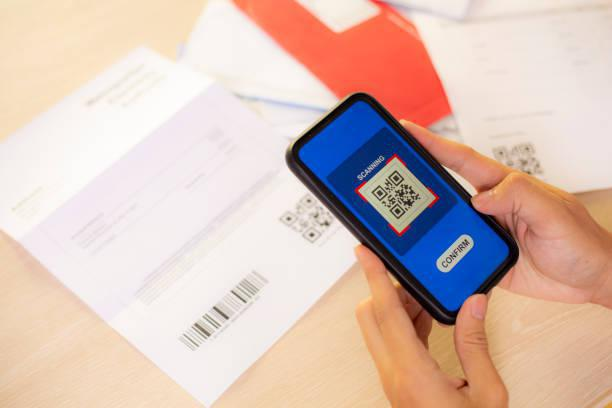Finder pattern: (300, 226, 323, 244), (297, 192, 319, 209), (372, 184, 392, 202), (277, 211, 299, 227), (387, 169, 406, 187), (389, 202, 407, 220), (519, 140, 537, 157), (492, 143, 510, 160)
